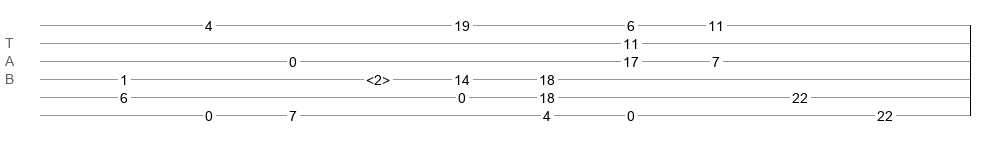0: (205, 108, 213, 118), (289, 54, 297, 64), (458, 90, 466, 100), (627, 108, 635, 118)
1: (120, 72, 128, 82)
11: (623, 36, 639, 46), (708, 18, 724, 28)
14: (454, 72, 470, 82)
17: (623, 54, 639, 64)
18: (539, 72, 555, 82), (539, 90, 555, 100)
19: (454, 18, 470, 28)
22: (792, 90, 808, 100), (877, 108, 893, 118)
4: (205, 18, 213, 28), (543, 108, 551, 118)
6: (120, 90, 128, 100), (627, 18, 635, 28)
7: (289, 108, 297, 118), (712, 54, 720, 64)
harmonic: (366, 72, 390, 82)
